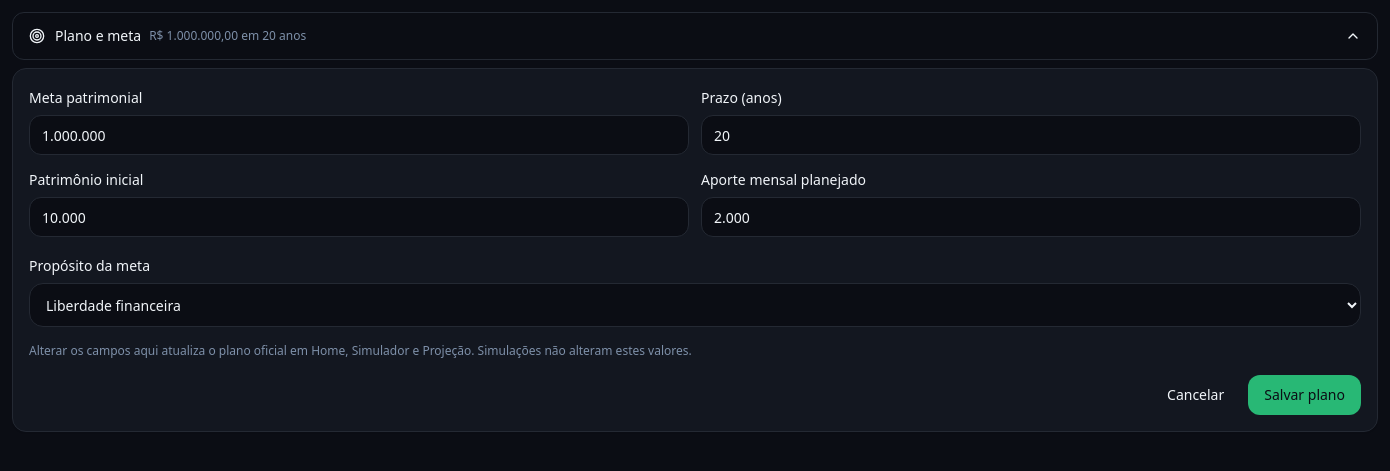
Test: PlanSettingsSection › bloqueia formato monetário inválido
Step 1. Replace the text in the field labelled "Meta patrimonial" with "abc" → coordinates (359, 135), box x1=29 y1=115 x2=689 y2=155
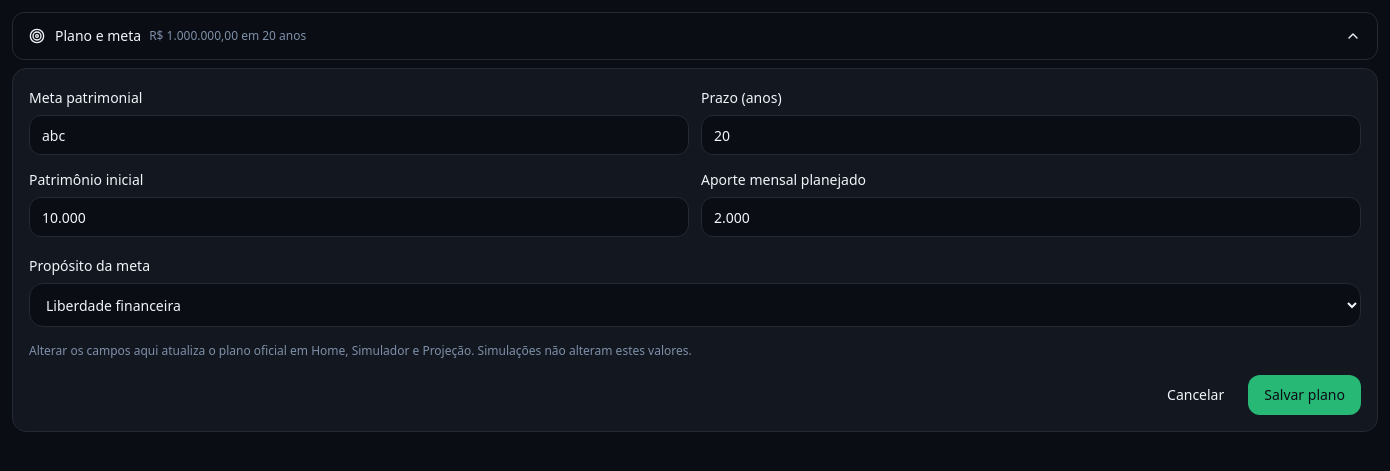
Step 2. Click the button "Salvar plano" → coordinates (1305, 395), box x1=1248 y1=375 x2=1361 y2=415
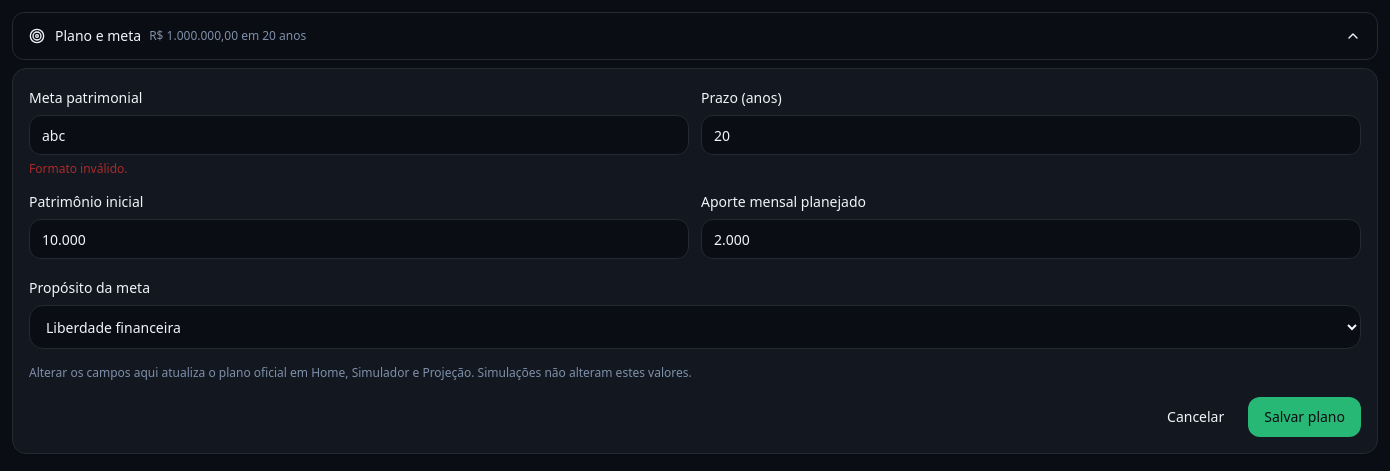
Now the text "Formato inválido." is shown, box x1=29 y1=160 x2=128 y2=177
